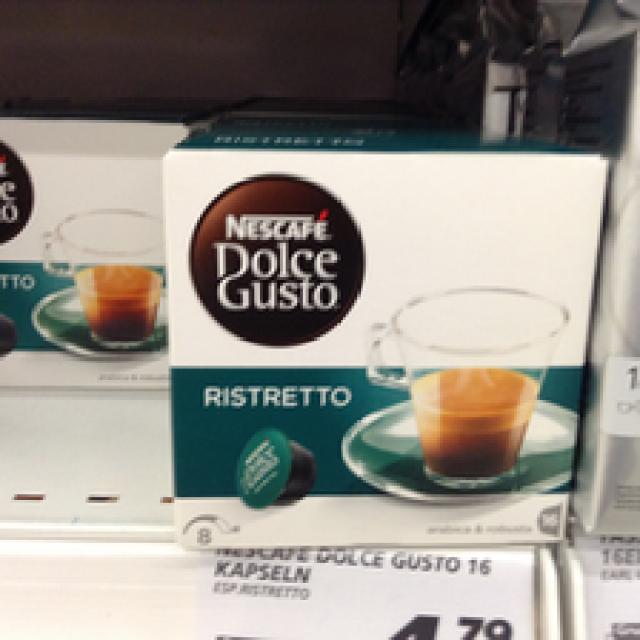groceries: (157, 131, 606, 546)
